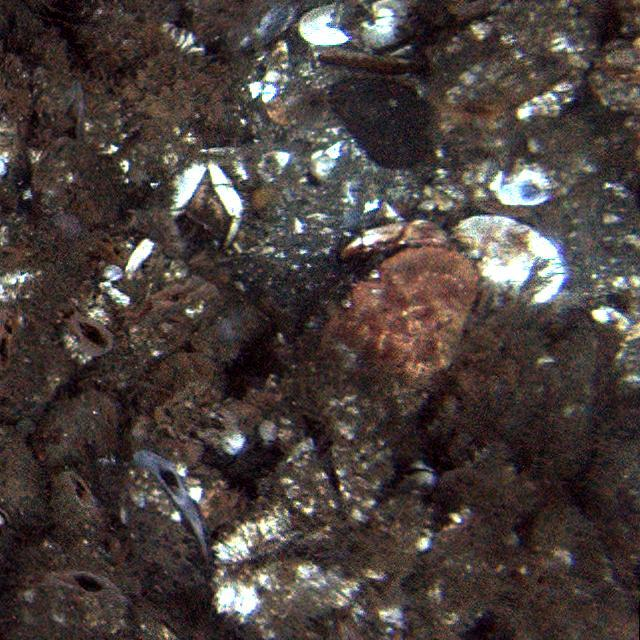crab: (329, 224, 476, 371)
